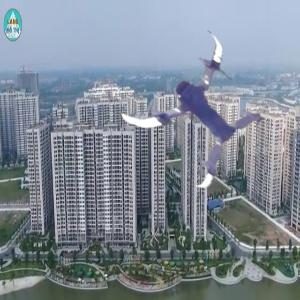drone: (124, 33, 267, 176)
